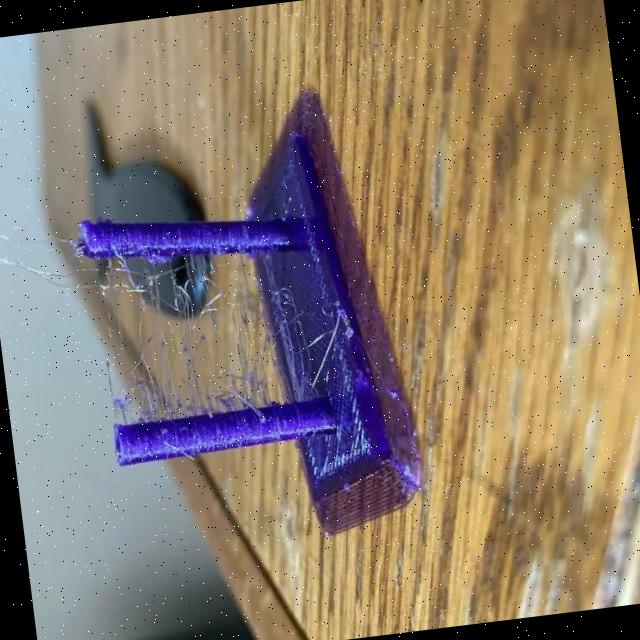stringing: (106, 344, 264, 432), (110, 250, 224, 328)
